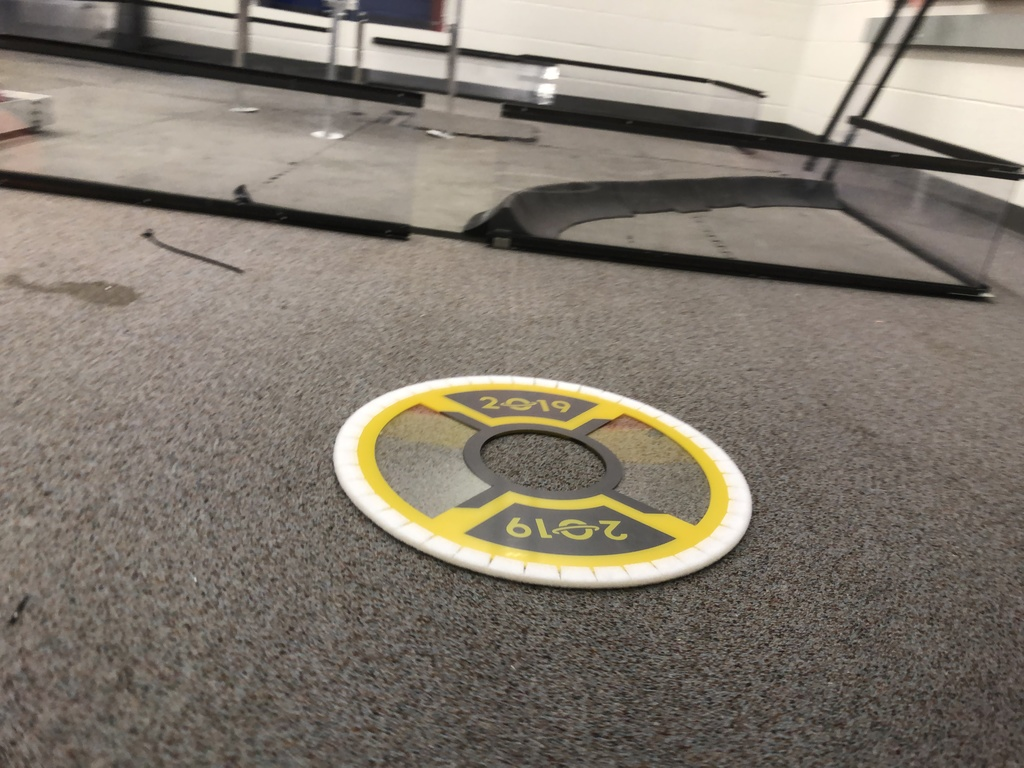hatch_panel: (324, 362, 781, 597)
